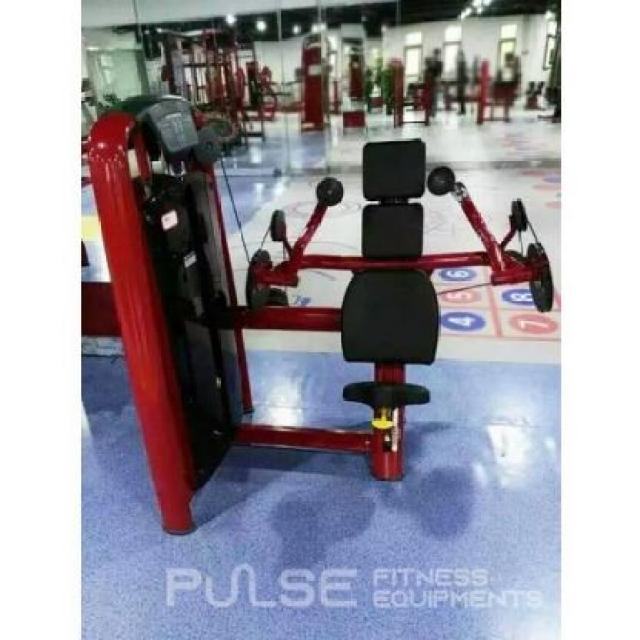seated dip machine: (92, 92, 554, 537)
